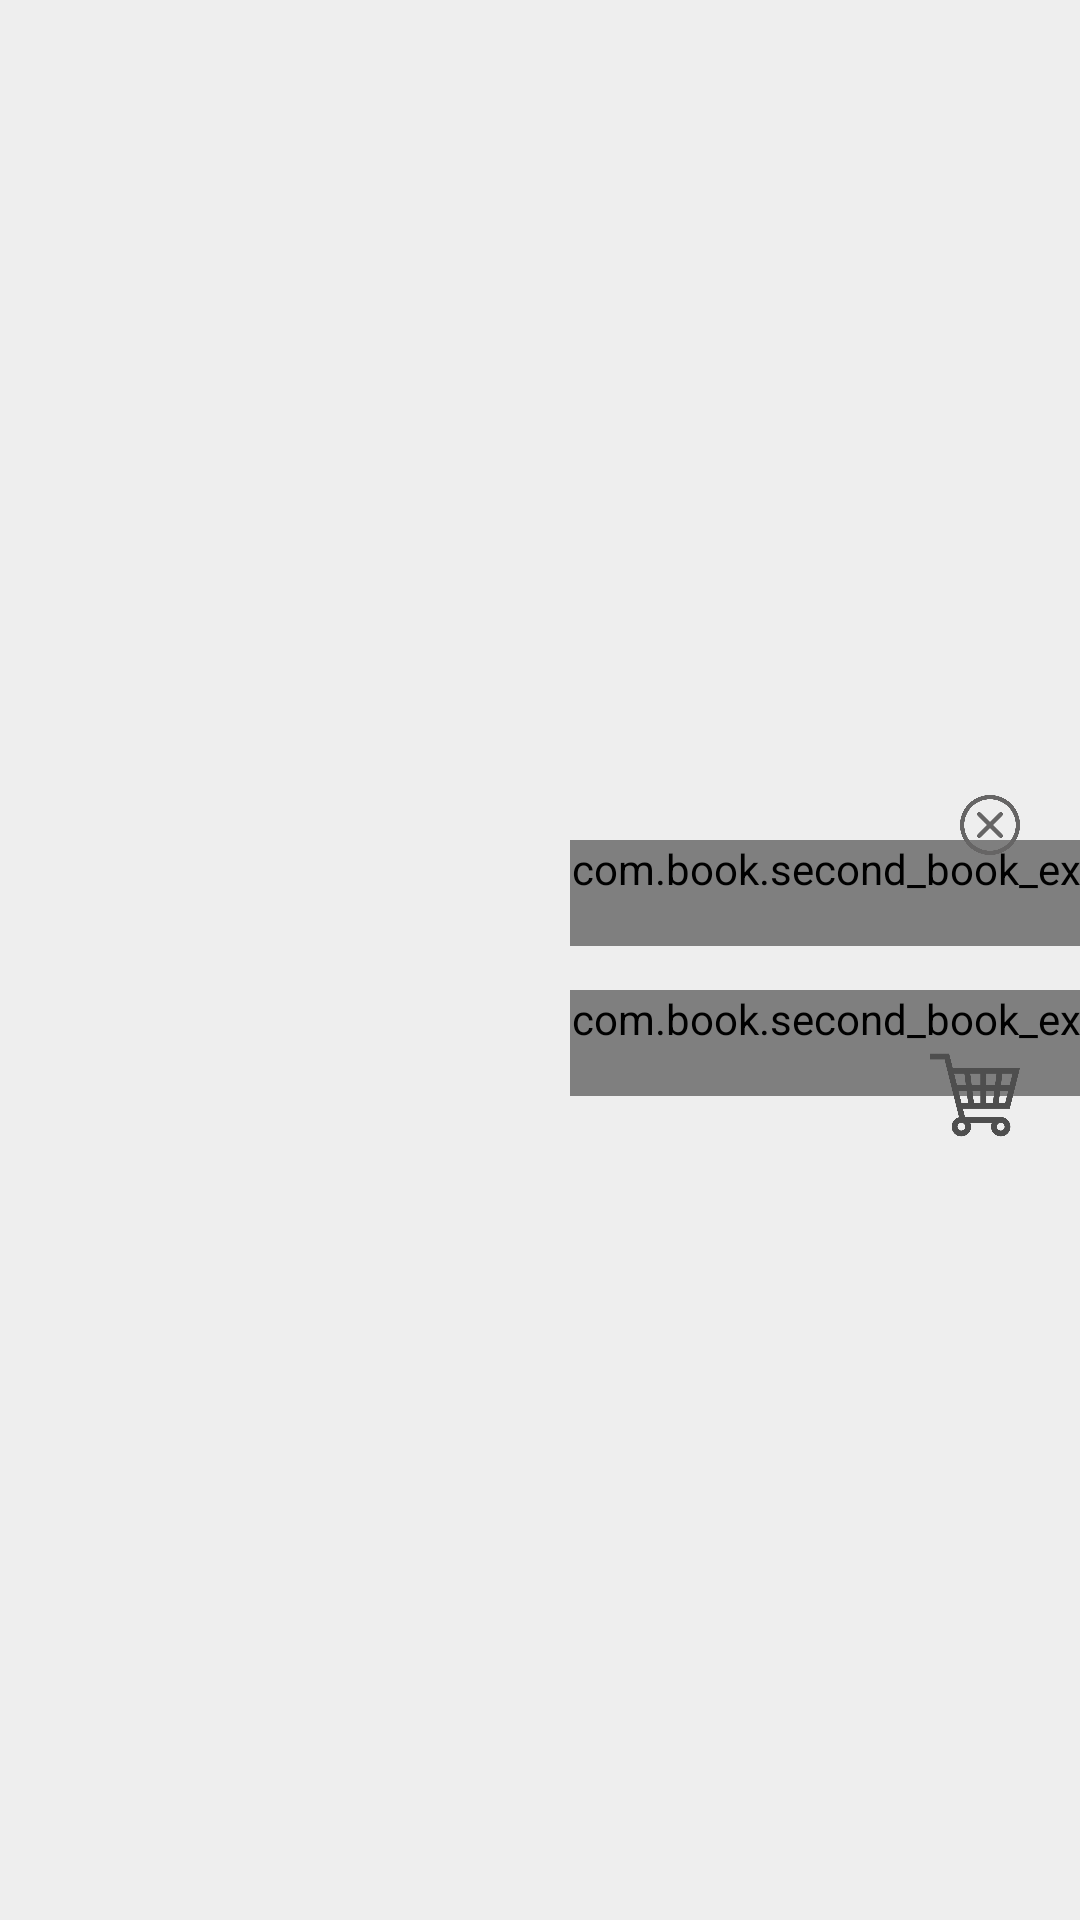

Where to tap for icons on this 1080px×1920px app screen, as point (x, y):
cart: point (975, 1095)
